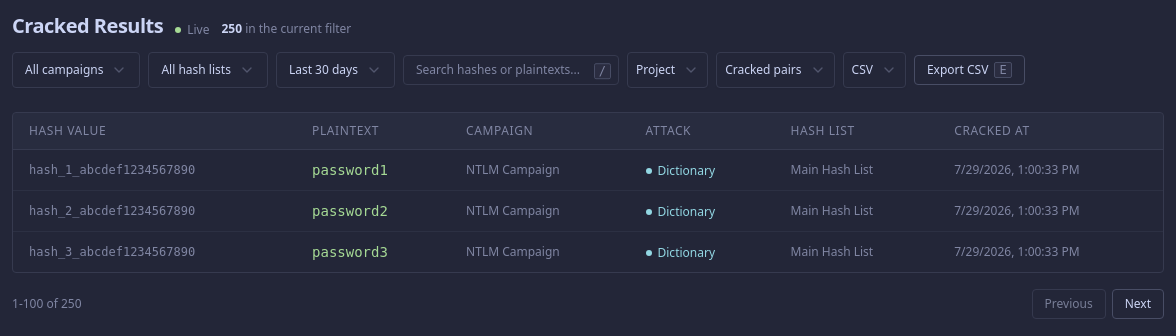
it: ResultsPage › clicking Next increments offset by 100
This screenshot has width=1176, height=336.
Click the button "Next" at (1138, 304), box [1112, 289, 1164, 319]
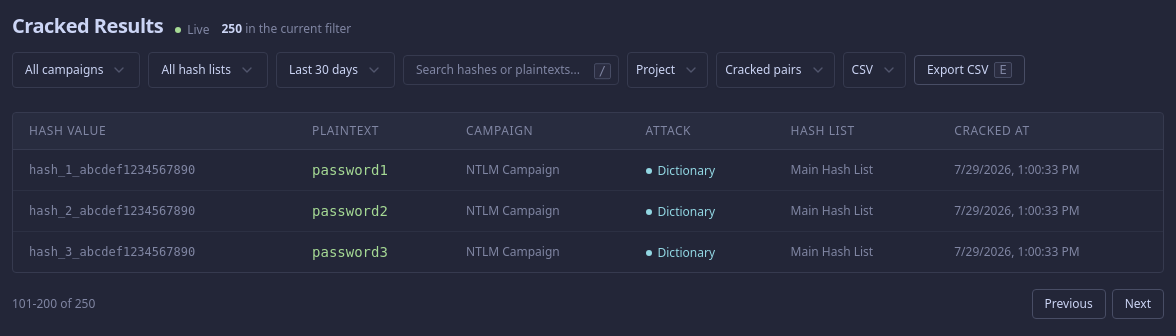
Result: the text "101-200 of 250" is shown at [12, 296, 95, 312]
